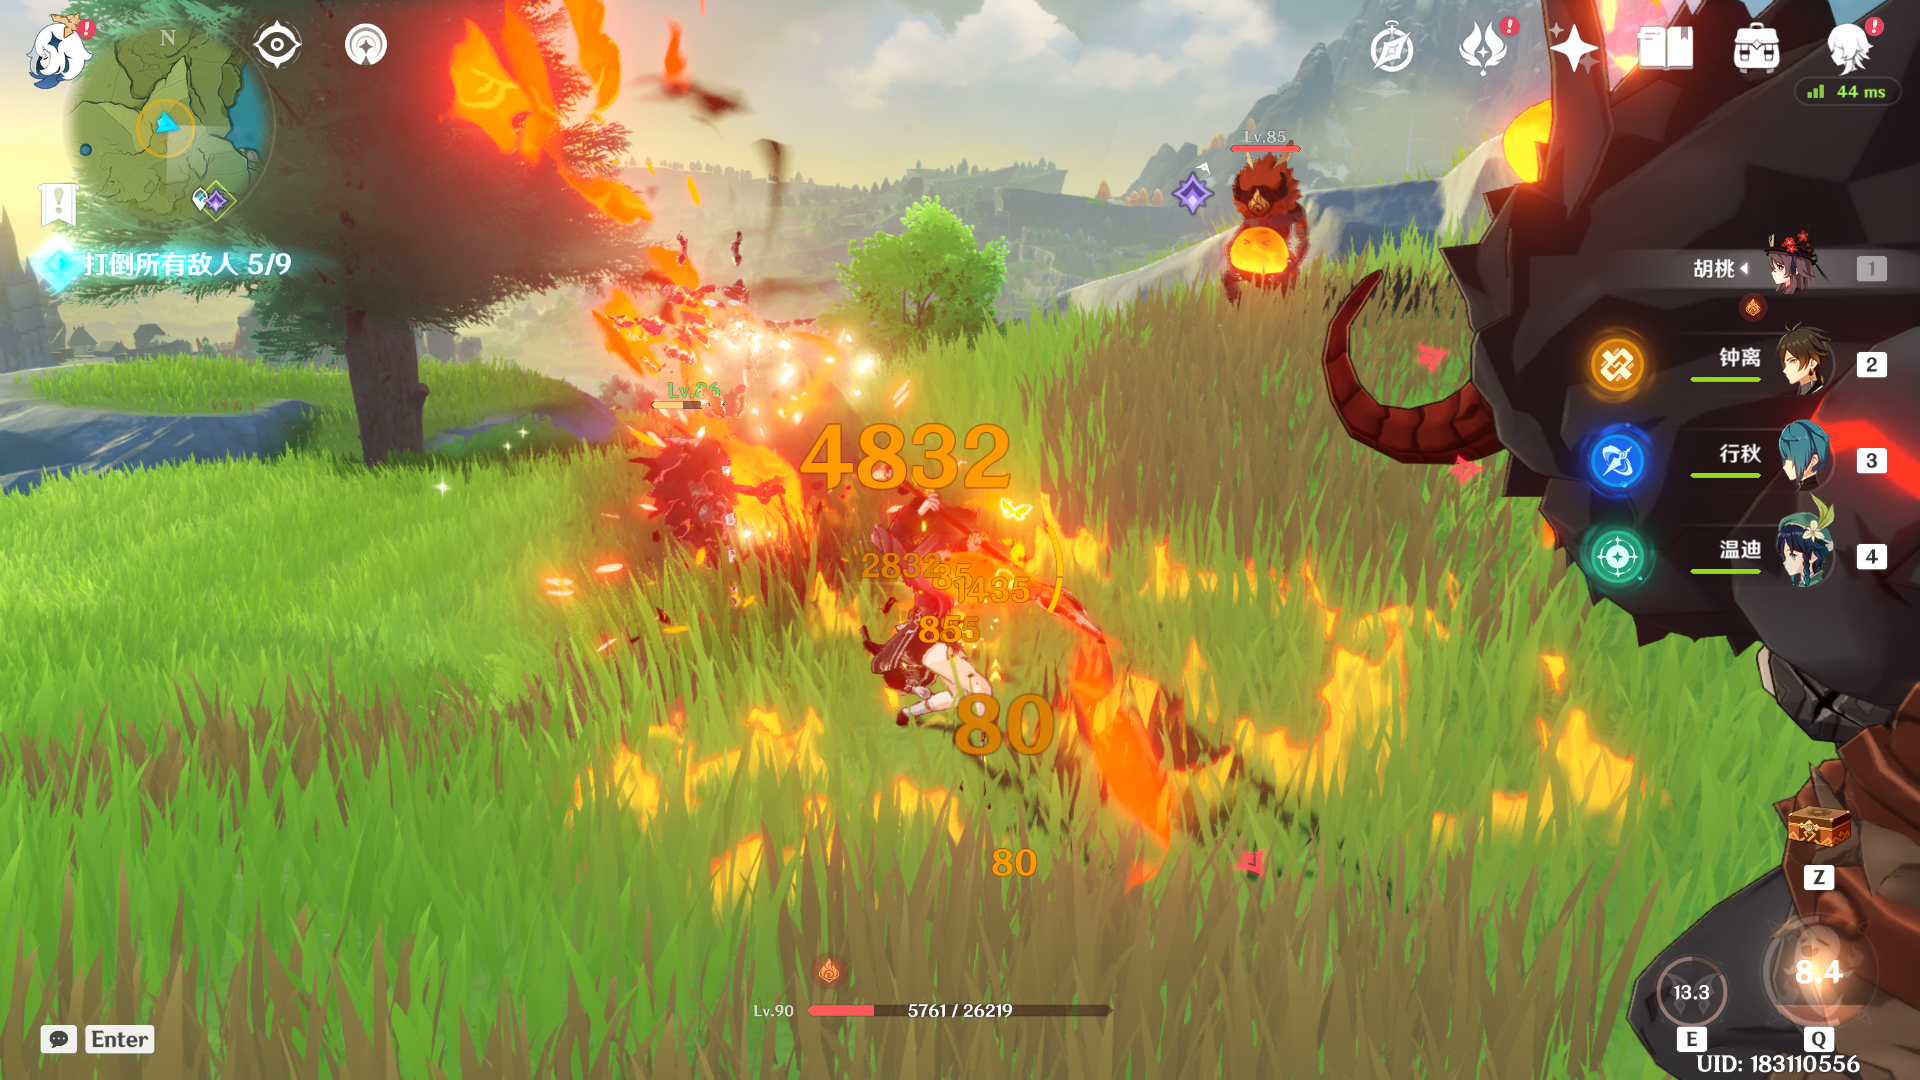hili: (1191, 153, 1345, 314)
slime: (1218, 219, 1312, 294)
